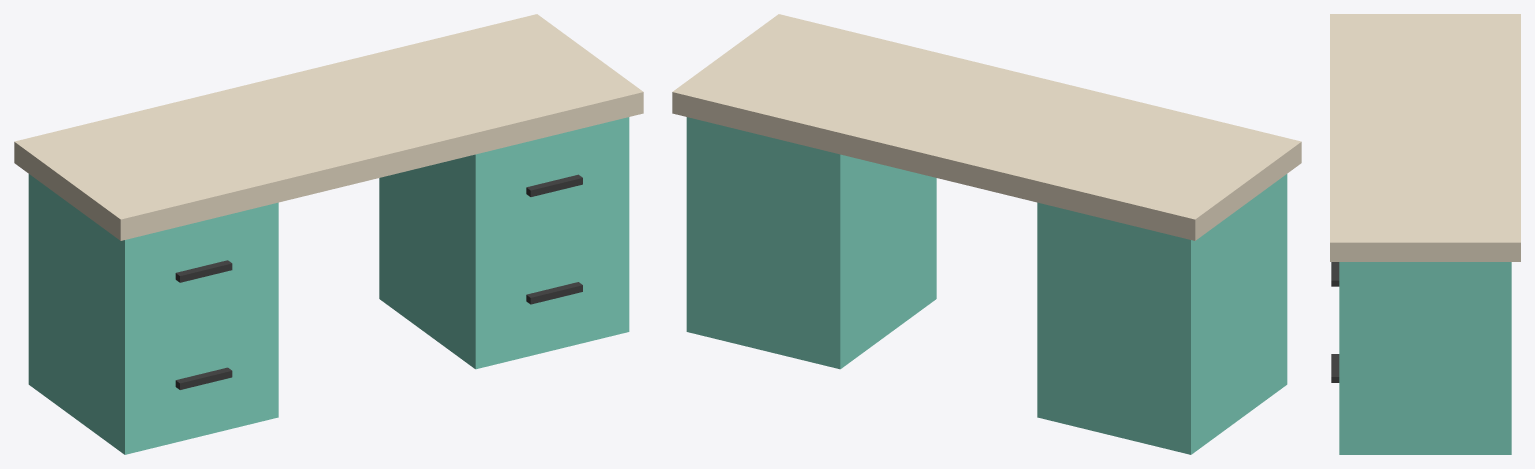
3 views of the same model, side by side, from view 1: azimuth 30°, elevation 25°; view 2: azimuth 150°, elevation 25°; view 3: azimuth 270°, elevation 25° (orthographic). The views are drawn at different scales.
Parts seen in each view (by area): view 1: Worktop, Storage module, Storage module.001, Handle.001, Handle, Handle.002, Handle.003; view 2: Worktop, Storage module, Storage module.001; view 3: Worktop, Storage module.001, Handle.002, Handle.003.
Boxes of the visible parts, x1,y1,x2,y2 form: Worktop: [14, 14, 643, 240]; Storage module: [28, 174, 278, 454]; Storage module.001: [379, 117, 629, 369]; Handle.001: [175, 260, 232, 282]; Handle: [175, 367, 232, 389]; Handle.002: [526, 282, 582, 304]; Handle.003: [526, 174, 582, 196]; Worktop: [672, 14, 1301, 240]; Storage module: [1037, 174, 1287, 454]; Storage module.001: [686, 117, 936, 369]; Worktop: [1330, 14, 1520, 261]; Storage module.001: [1339, 262, 1511, 454]; Handle.002: [1331, 354, 1339, 382]; Handle.003: [1331, 262, 1339, 286].
Bounding box in the file's own units: 2.04 × 0.9 × 0.72.
1 material, 1 textured.
